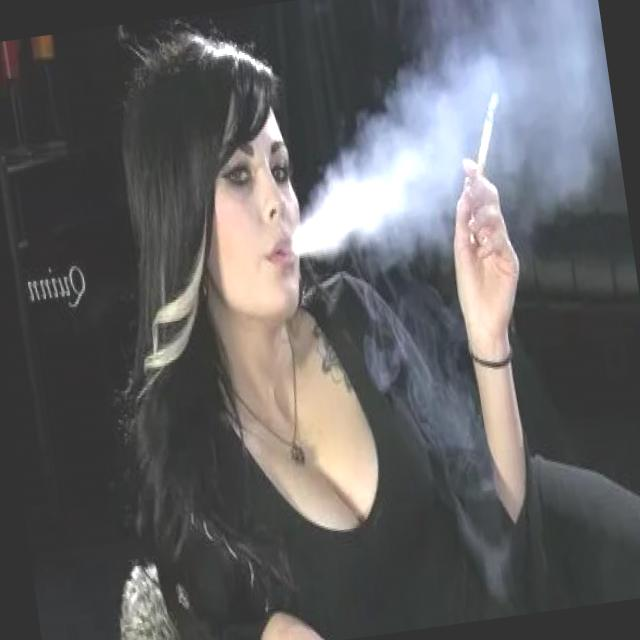smoke: (462, 91, 514, 186)
